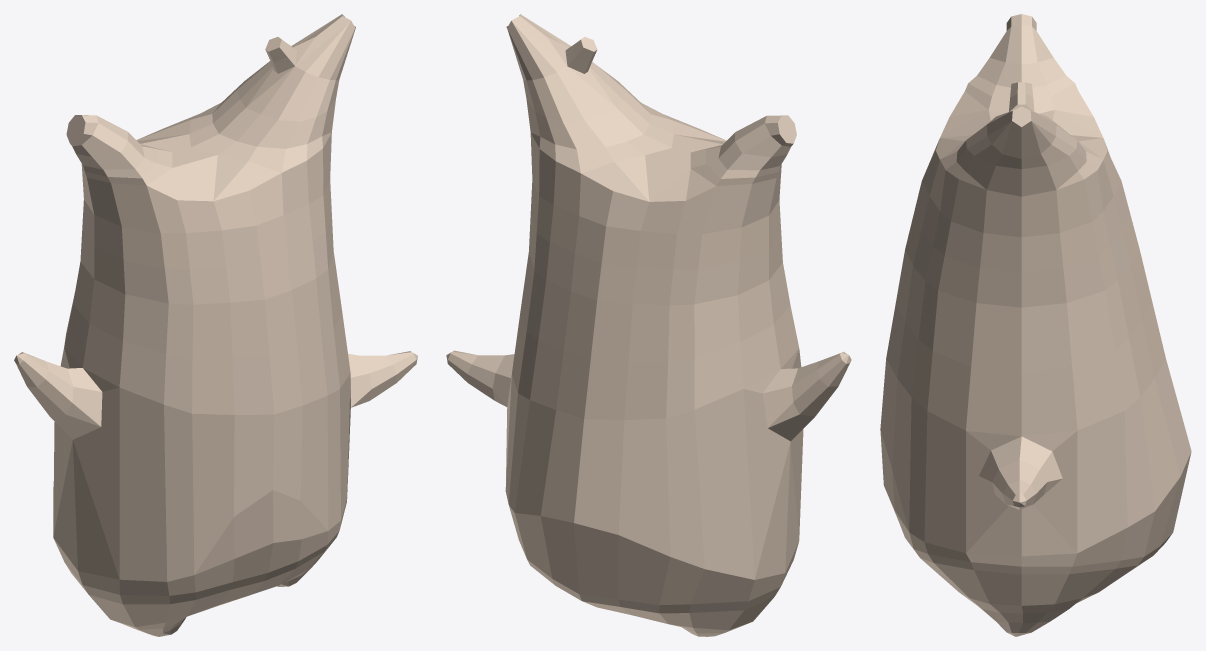
The model's file is frame_0137.obj.
3 renders of one model, left to right at view 1: azimuth 30°, elevation 25°; view 2: azimuth 150°, elevation 25°; view 3: azimuth 270°, elevation 25°, orthographic.
Visible parts, largest first — view 1: korok; view 2: korok; view 3: korok.
Boxes of the visible parts, x1=… form: korok: x1=14, y1=14, x2=417, y2=636; korok: x1=446, y1=14, x2=851, y2=636; korok: x1=880, y1=14, x2=1191, y2=636.
Bounding box in the file's own units: 1.6 × 2.18 × 1.07.
